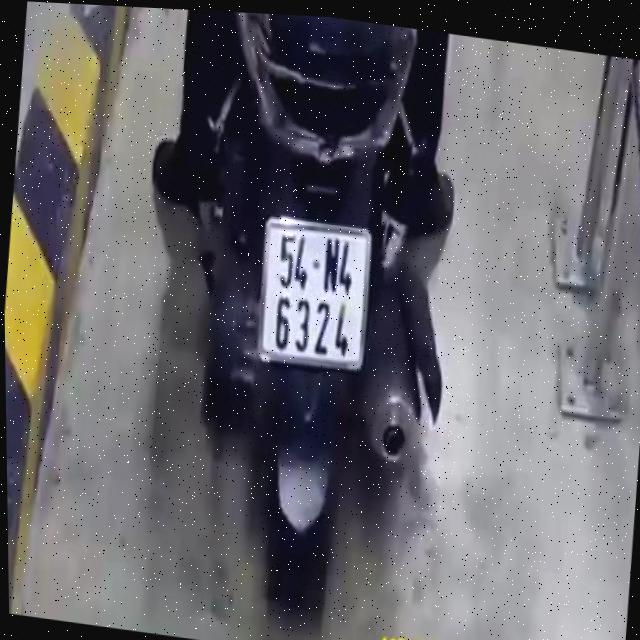motorcycle: (153, 8, 489, 624)
plate: (249, 207, 386, 377)
